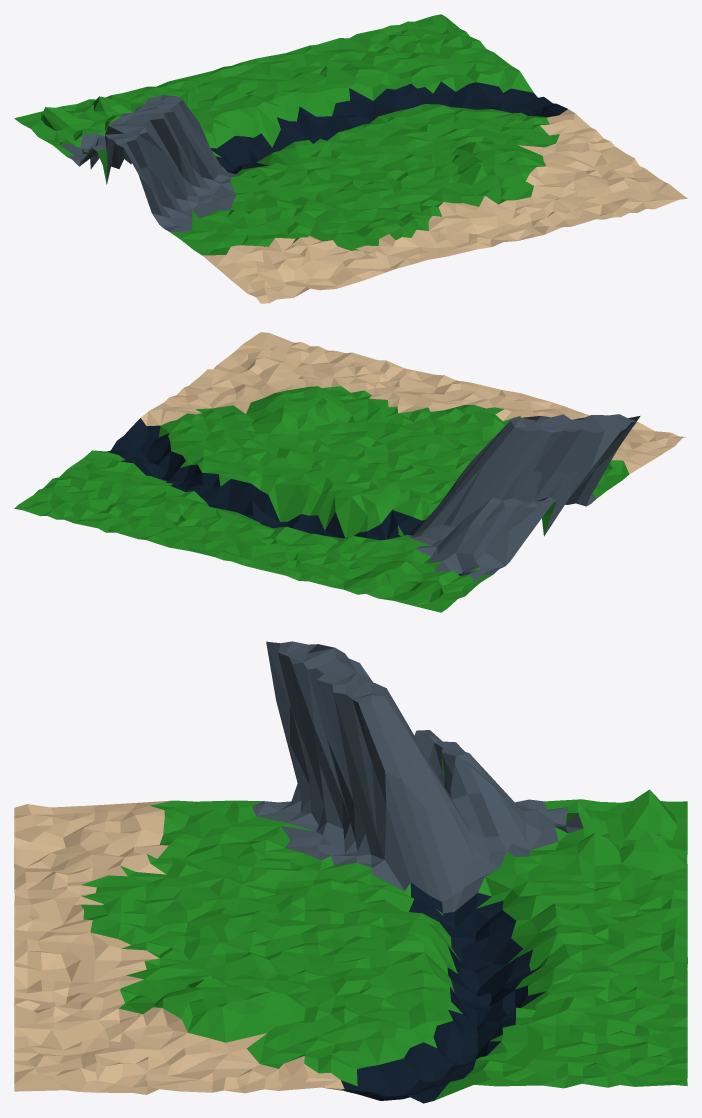
File: tutorialmap.fbx
3 renders of one model, top to bottom at view 1: azimuth 30°, elevation 25°; view 2: azimuth 150°, elevation 25°; view 3: azimuth 270°, elevation 25°, orthographic. The views are drawn at different scales.
Visible parts, largest first — view 1: Plane; view 2: Plane; view 3: Plane.
Part boxes in pixels (x1,y1,x2,y2): Plane: [14, 14, 687, 303]; Plane: [14, 332, 686, 612]; Plane: [14, 641, 687, 1103].
Bounding box in the file's own units: 2218 × 620 × 2002.
